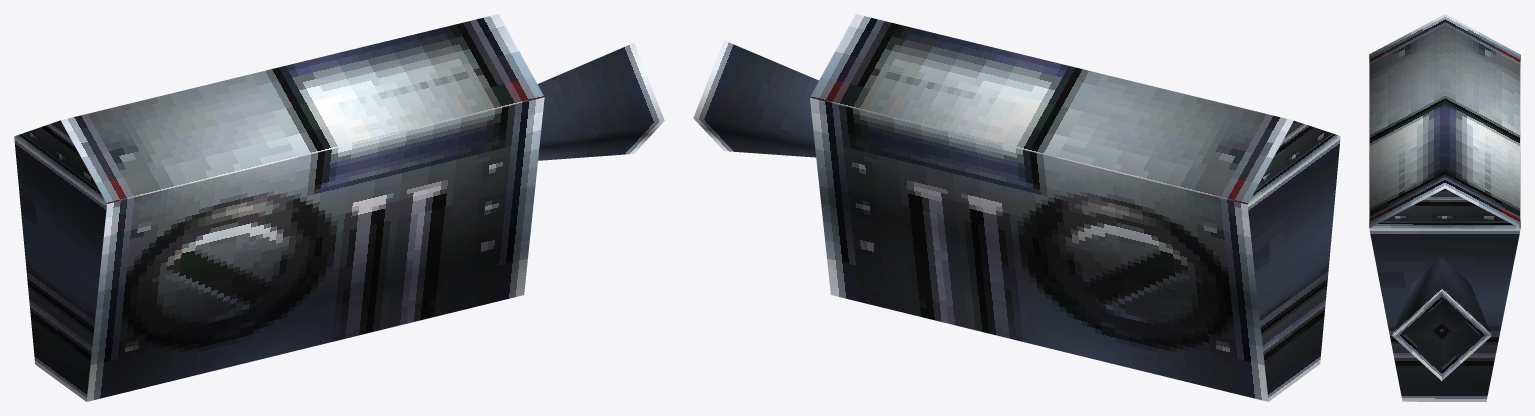
File: Gun.obj
3 renders of one model, left to right at view 1: azimuth 30°, elevation 25°; view 2: azimuth 150°, elevation 25°; view 3: azimuth 270°, elevation 25°, orthographic. The views are drawn at different scales.
Bounding box in the file's own units: 8 × 3.51 × 2.25.
Materials: 1 (1 with a texture image).
